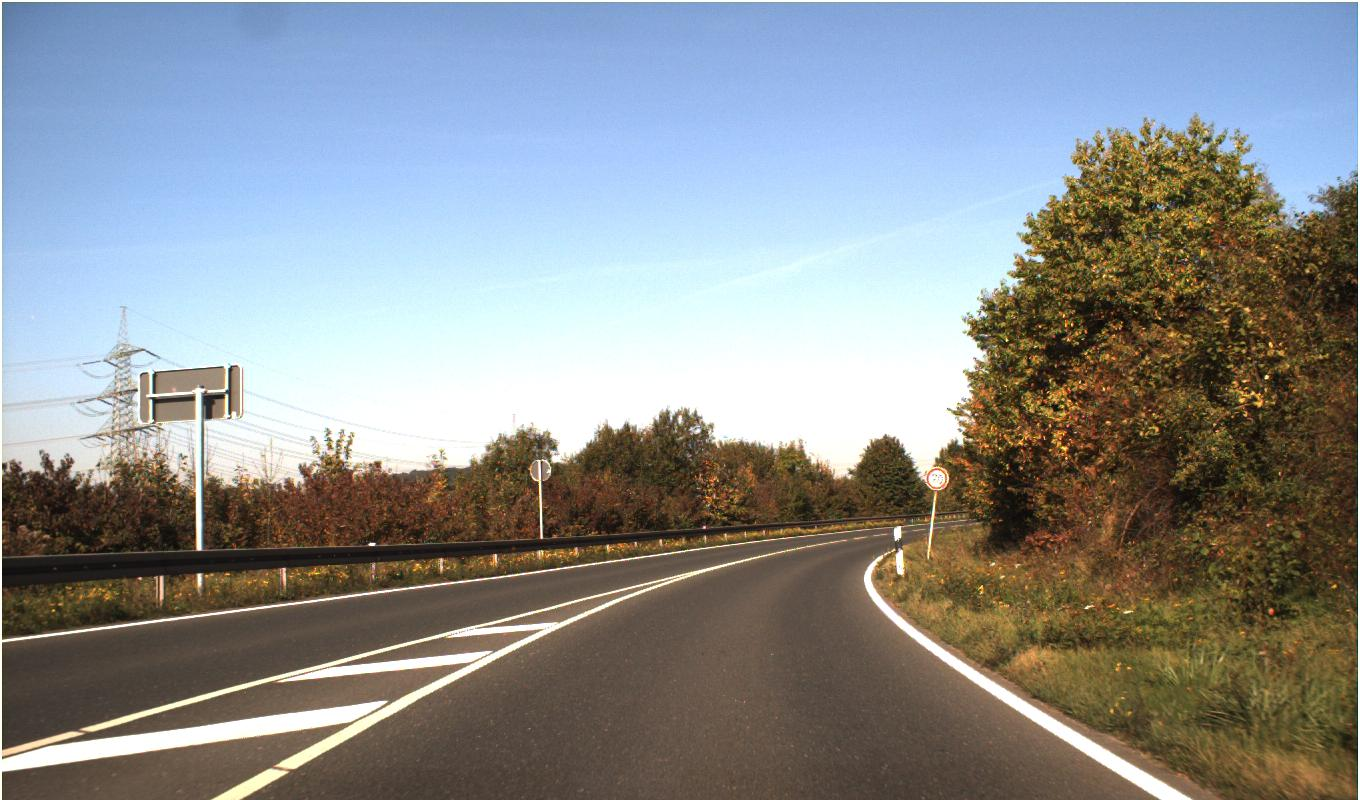prohibitory: (925, 466, 949, 490)
